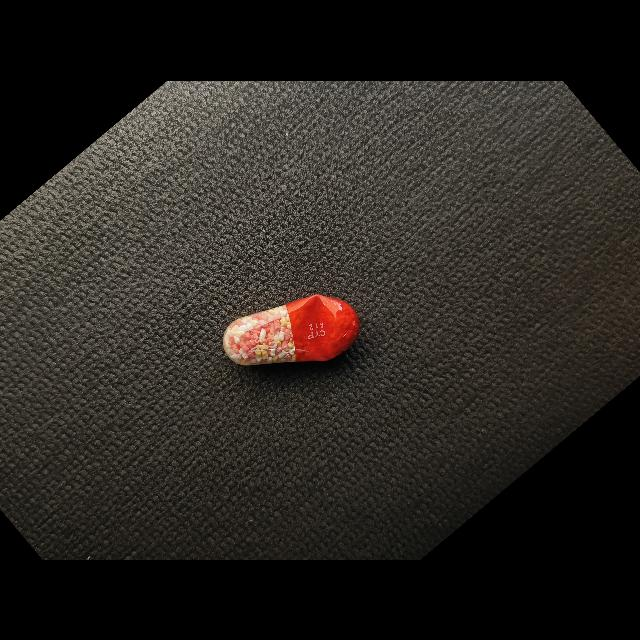Defective Capsule: (223, 294, 360, 365)
